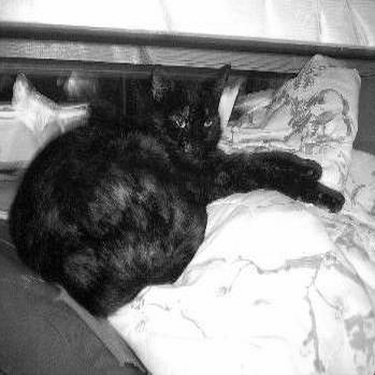cat: (7, 63, 344, 317)
